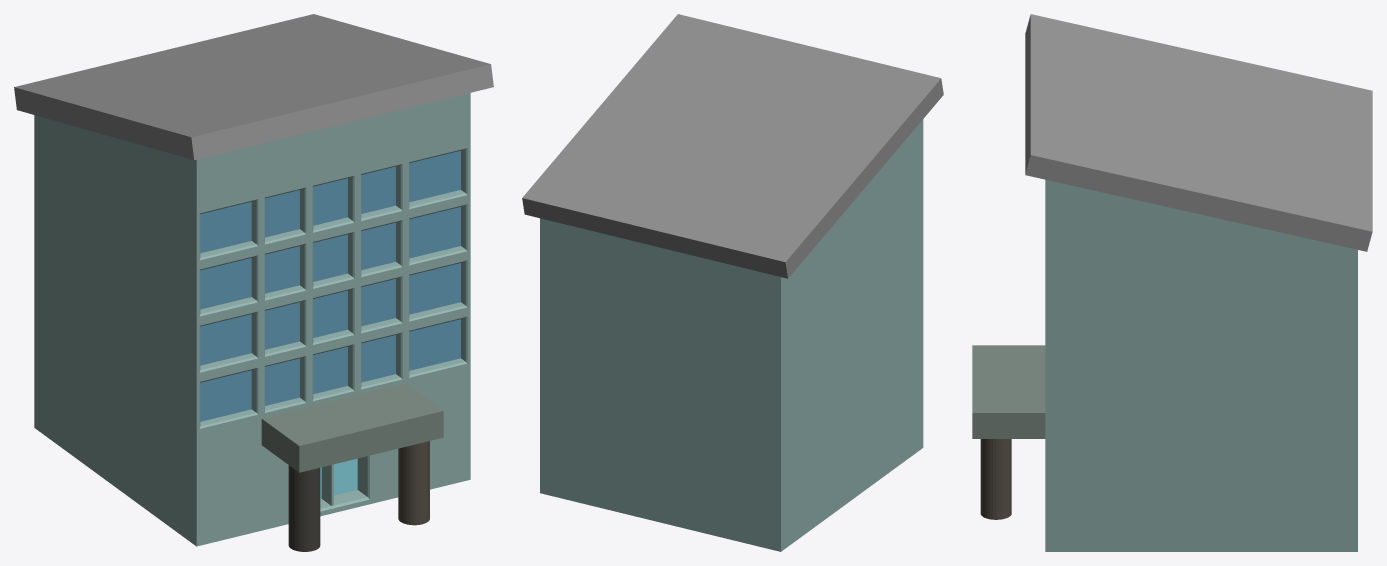
The model's file is edificio_05.fbx.
3 renders of one model, left to right at view 1: azimuth 30°, elevation 25°; view 2: azimuth 150°, elevation 25°; view 3: azimuth 270°, elevation 25°, orthographic. The views are drawn at different scales.
Visible parts, largest first — view 1: Cylinder.008; view 2: Cylinder.008; view 3: Cylinder.008.
Boxes of the visible parts, left/top/right/bottom form: Cylinder.008: left=14, top=14, right=493, bottom=551; Cylinder.008: left=522, top=14, right=943, bottom=551; Cylinder.008: left=972, top=14, right=1372, bottom=551.
Size of the model in its own units: 3002 by 4000 by 3600.
